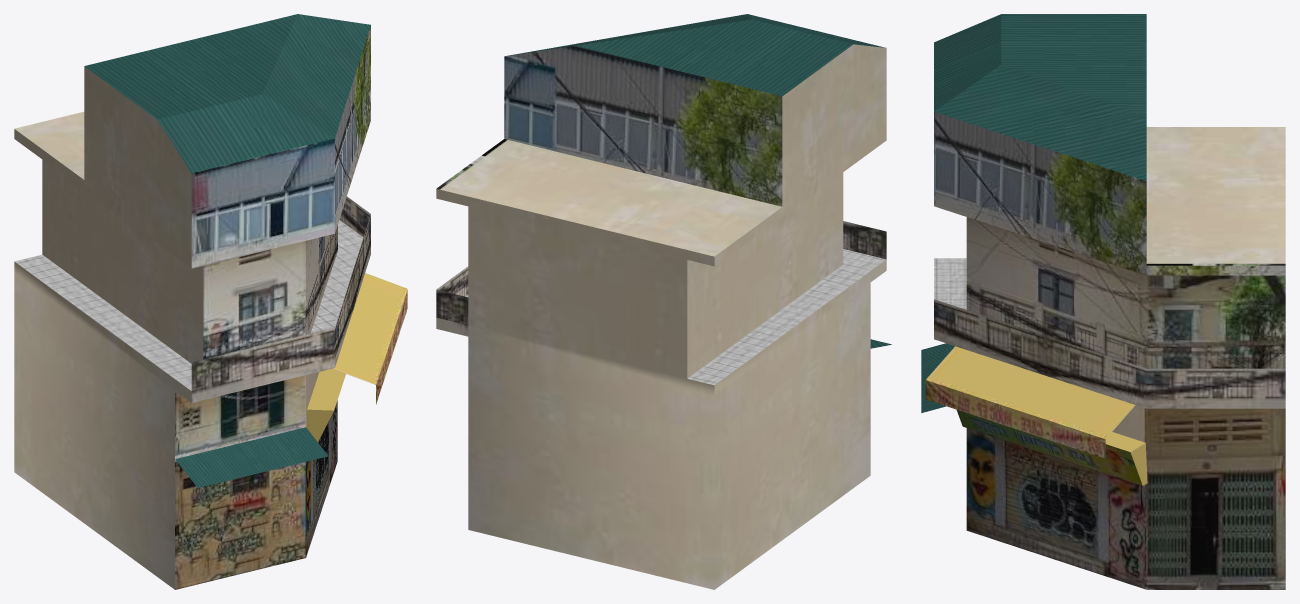
3 views of the same model, side by side, from view 1: azimuth 30°, elevation 25°; view 2: azimuth 150°, elevation 25°; view 3: azimuth 270°, elevation 25° (orthographic). The views are drawn at different scales.
Visible parts, largest first — view 1: HN960___Tra_Chanh_1982; view 2: HN960___Tra_Chanh_1982; view 3: HN960___Tra_Chanh_1982.
Boxes of the visible parts, x1,y1,x2,y2 form: HN960___Tra_Chanh_1982: [14, 14, 407, 589]; HN960___Tra_Chanh_1982: [436, 14, 891, 589]; HN960___Tra_Chanh_1982: [921, 14, 1285, 589].
Size of the model in its own units: 7.39 by 10.67 by 7.77.
1 material, 1 textured.
